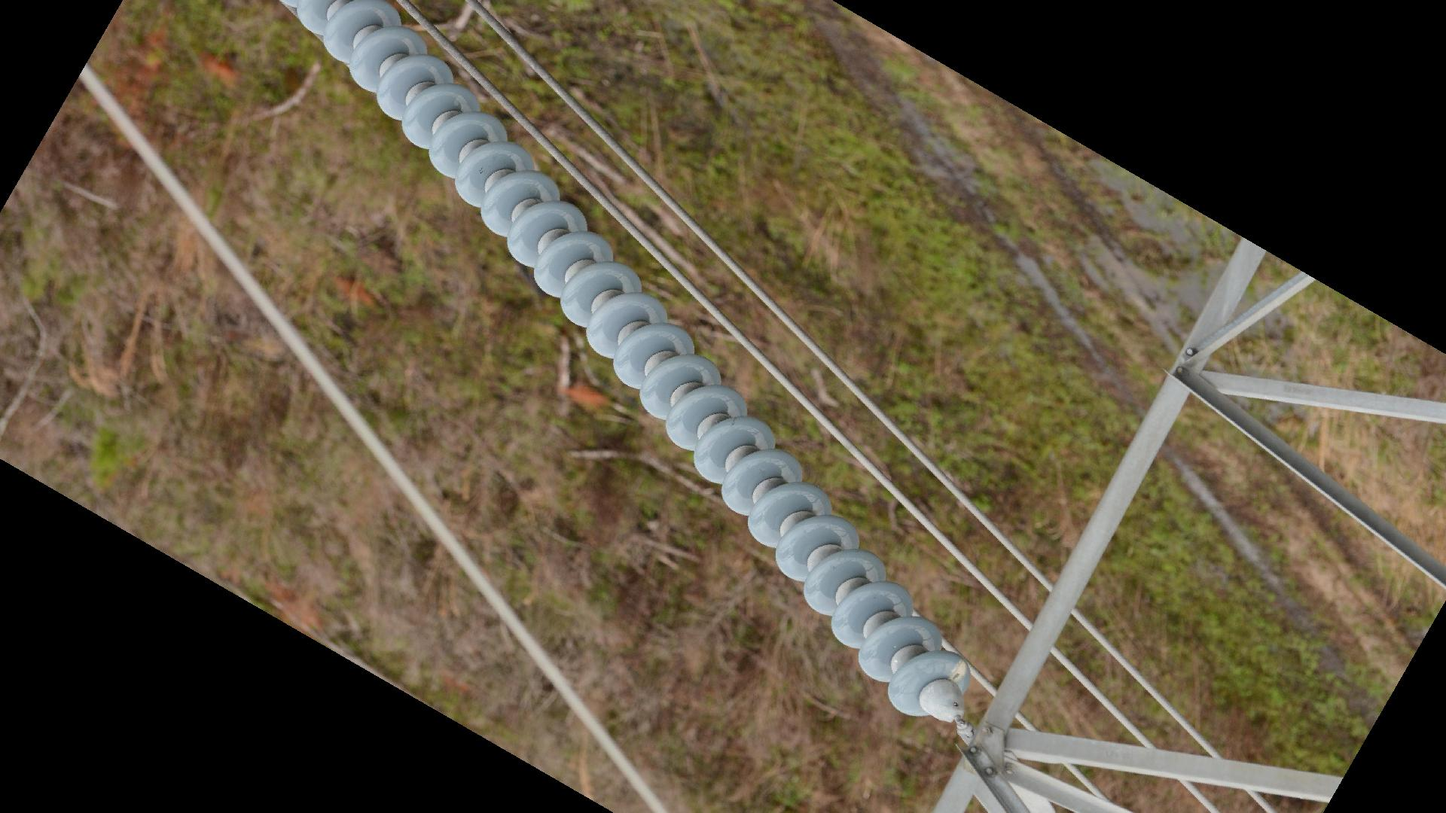insulator: (274, 1, 978, 724)
insulator_flashover: (947, 657, 969, 684)
